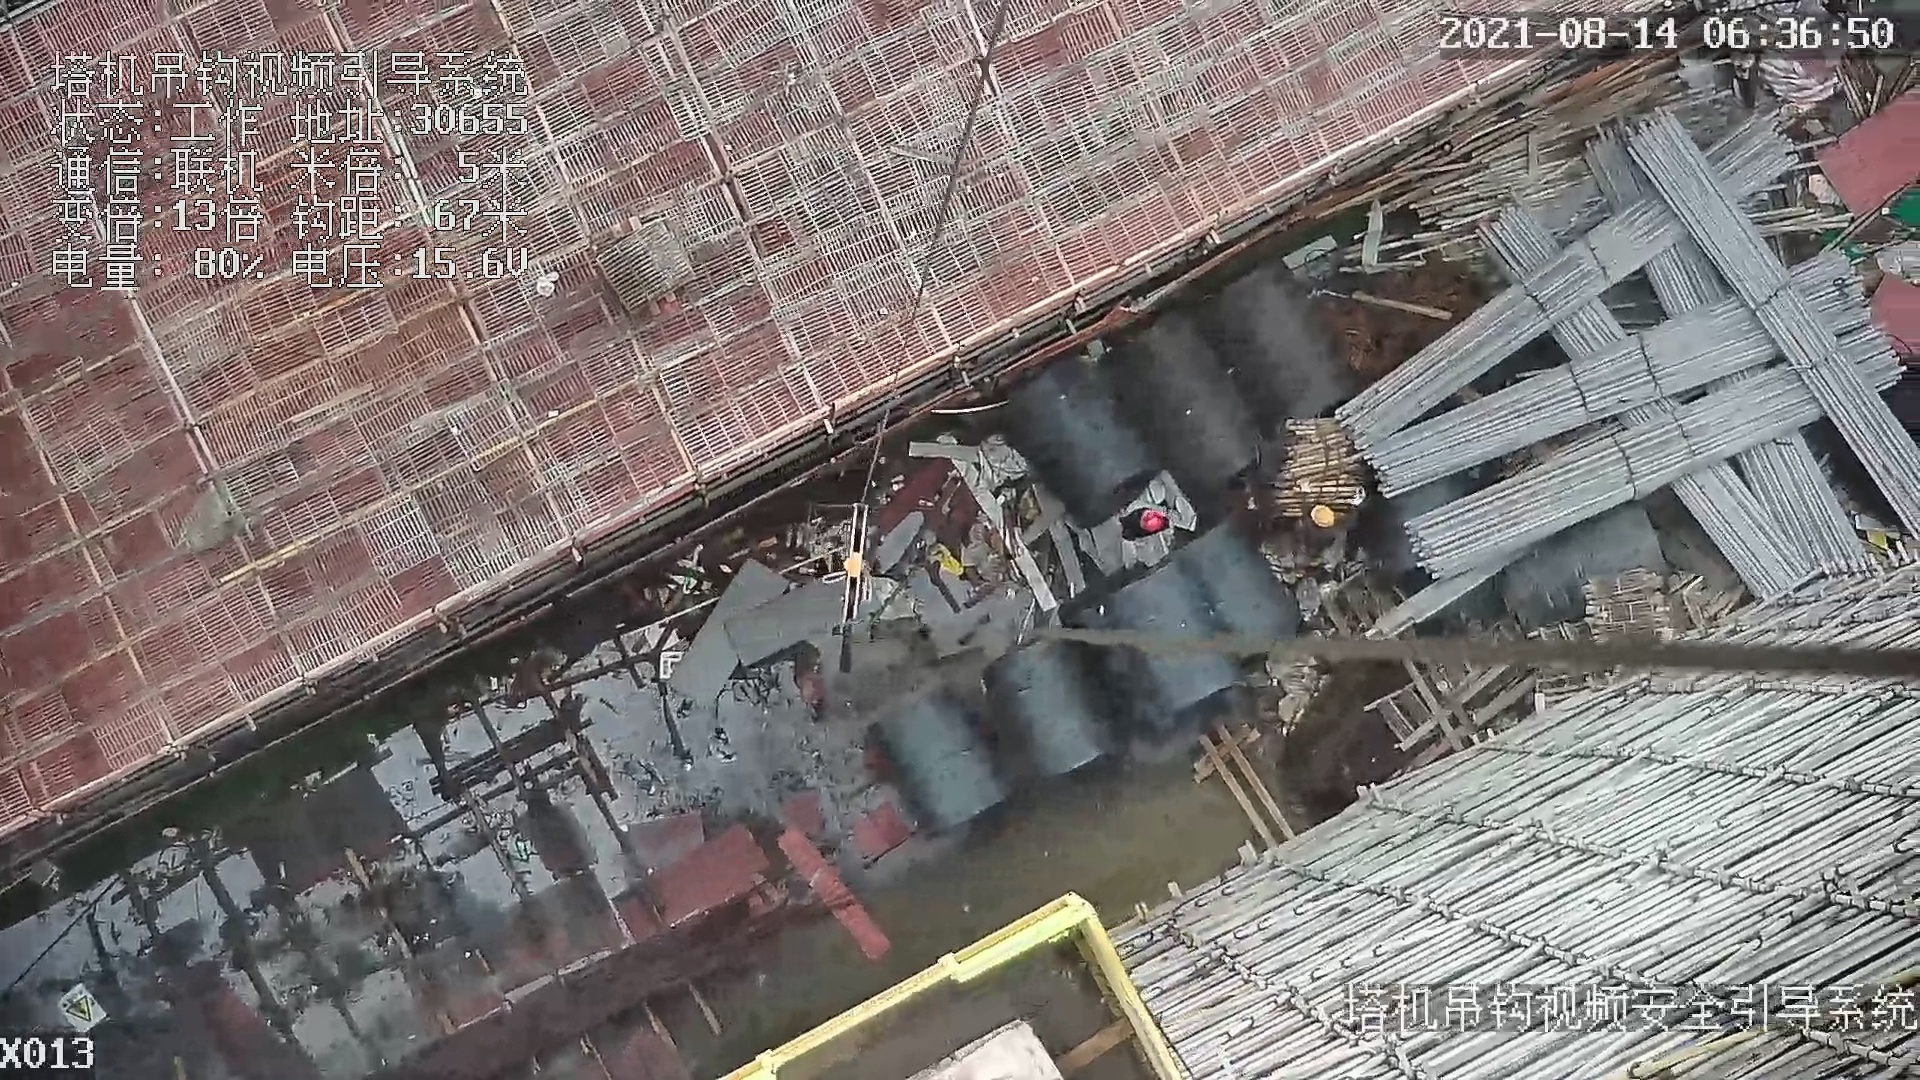helmet: (1308, 503, 1338, 533), (1136, 512, 1164, 539)
hook: (824, 500, 868, 623)
person: (1115, 503, 1173, 550)
scaffold: (1349, 106, 1918, 592), (1229, 401, 1374, 512)
